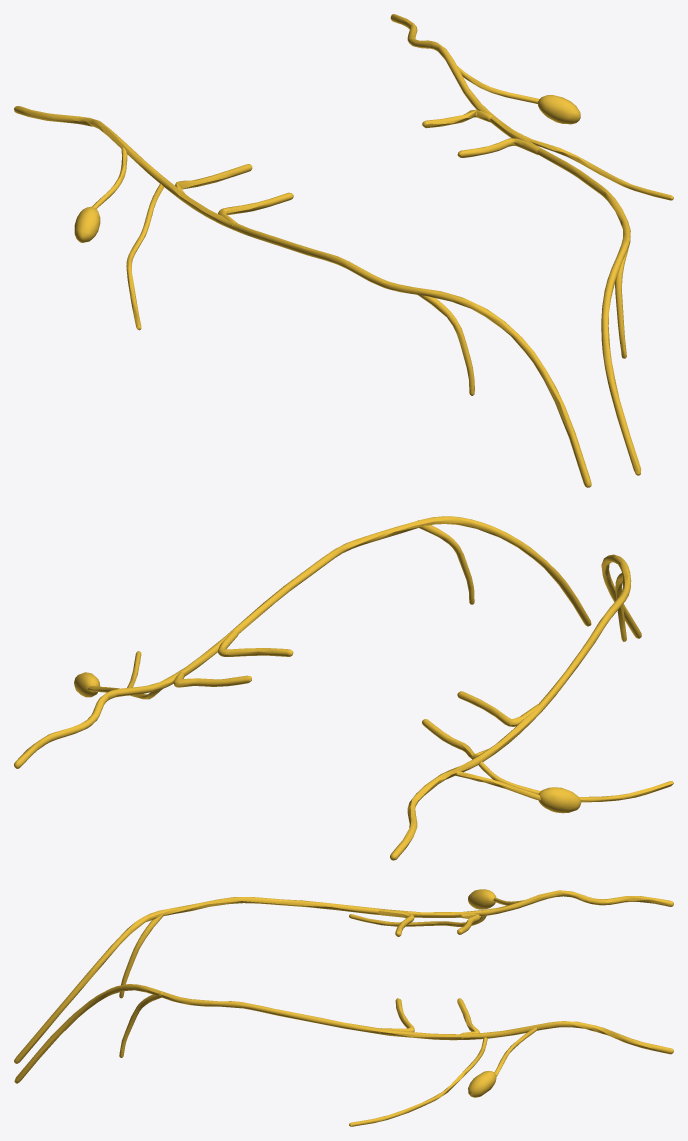
Rendered from nasociliary.glb.
3 views of the same model, one above another, from view 1: azimuth 30°, elevation 25°; view 2: azimuth 150°, elevation 25°; view 3: azimuth 270°, elevation 25° (orthographic). The views are drawn at different scales.
Parts seen in each view (by area): view 1: grp1; view 2: grp1; view 3: grp1.
Boxes of the visible parts, left/top/right/bottom form: grp1: left=14, top=14, right=673, bottom=487; grp1: left=14, top=516, right=673, bottom=860; grp1: left=14, top=889, right=673, bottom=1126.
Bounding box in the file's own units: 0.0564 × 0.0155 × 0.0748.
